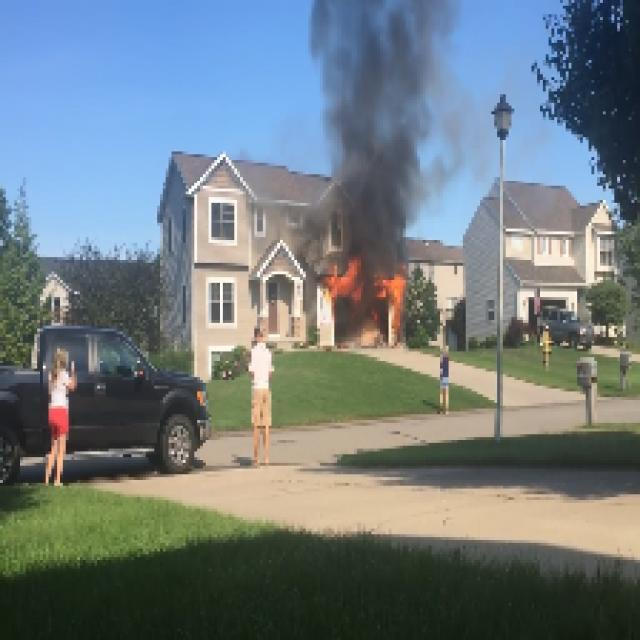Smoke: (337, 23, 414, 238)
